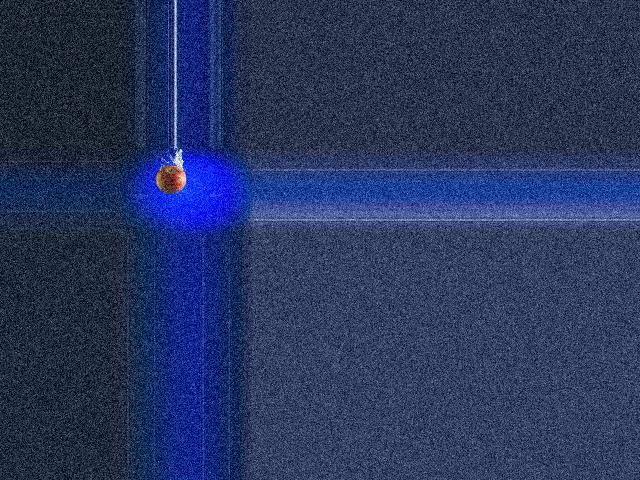tomato: (154, 165, 185, 193)
